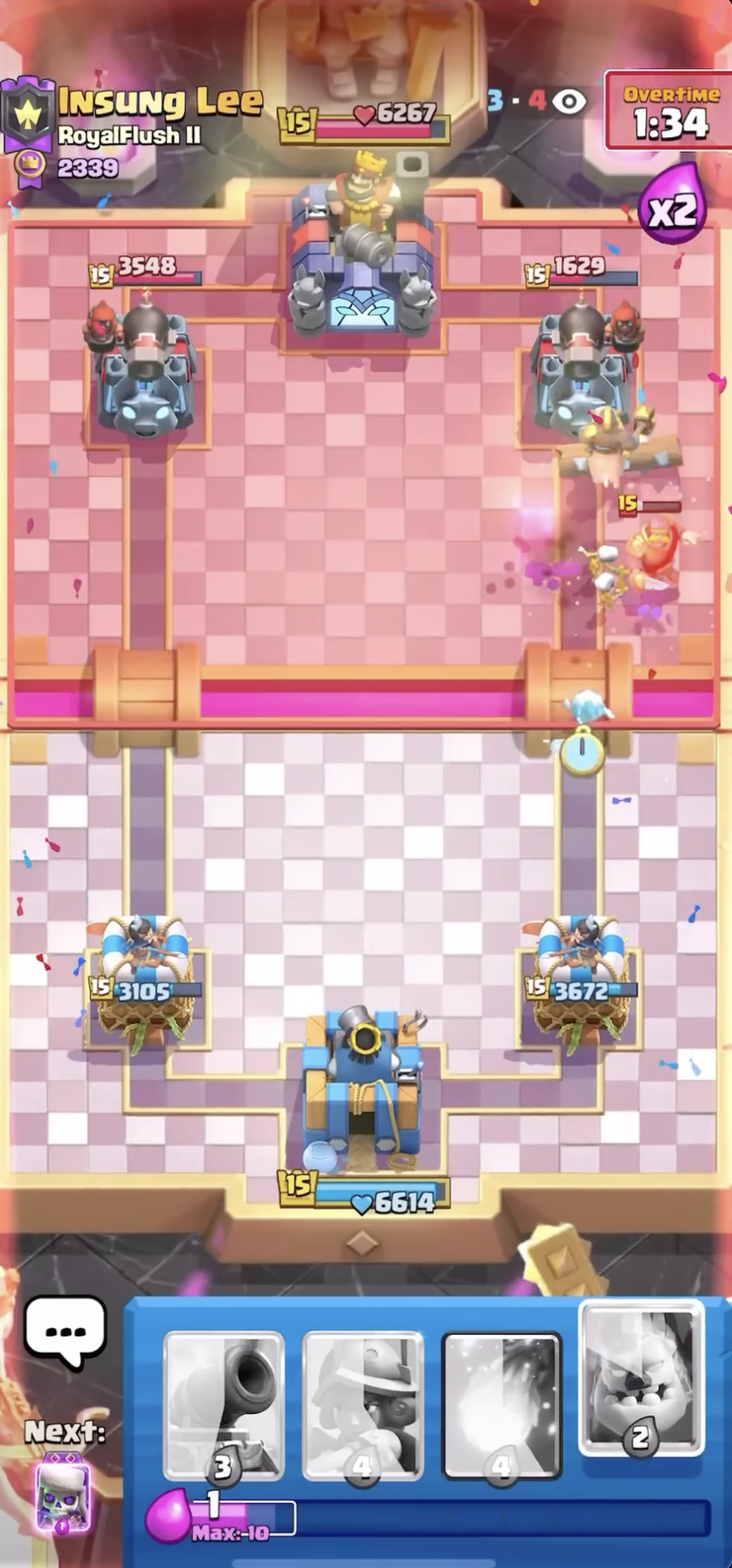knight: (615, 489, 700, 594)
